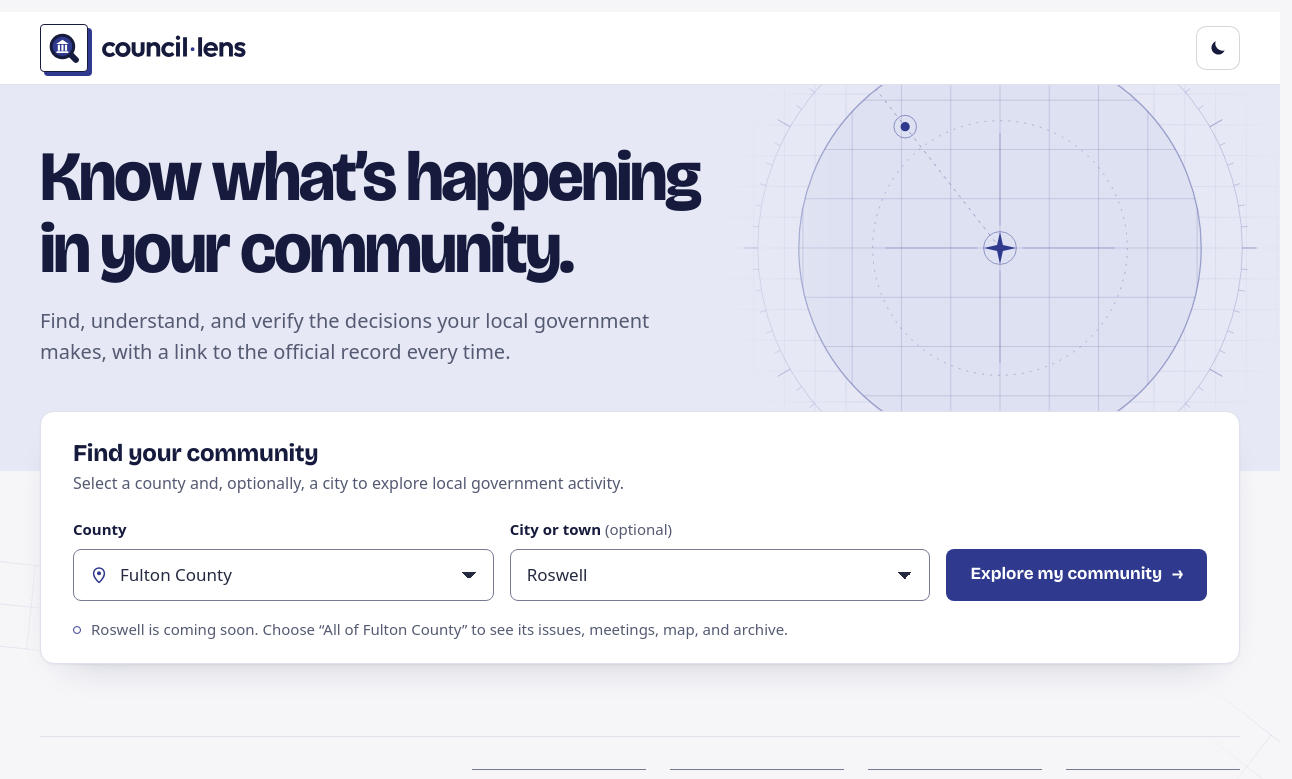
Test: Location chooser › shows Coming Soon for a city in two counties, without loading records
This screenshot has width=1292, height=779.
Click the button "Explore my community →" at coordinates (1077, 575), box x1=946 y1=549 x2=1207 y2=601
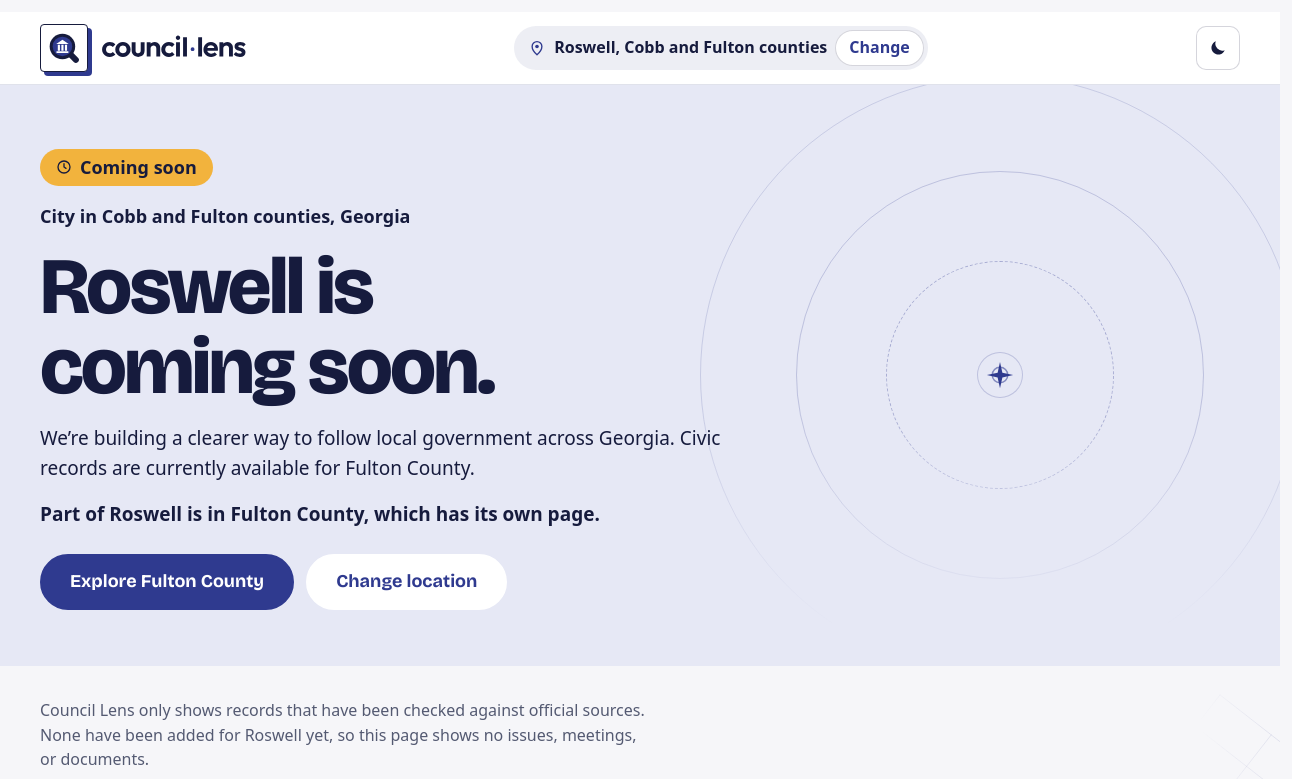
Expected: the heading "Roswell is coming soon." is shown, x1=40 y1=239 x2=494 y2=415
Now the text "City in Cobb and Fulton counties, Georgia" is shown, box x1=40 y1=202 x2=410 y2=231
Now the text "Part of Roswell is in Fulton County, which has its own page." is shown, box x1=40 y1=499 x2=600 y2=530
